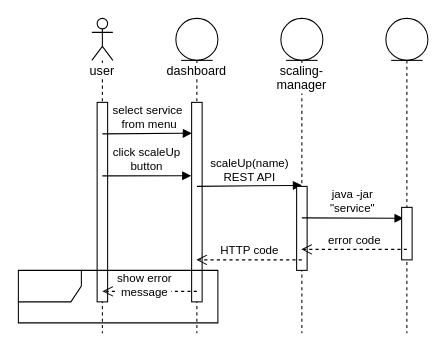
The diagram is 446 pixels wide and 352 high, and some of its shapes have lost their labels. Each missing label, with the centre of its shape:
"code not 200(ok)" goes at point 117,296.
"service host" goes at point 406,175.
